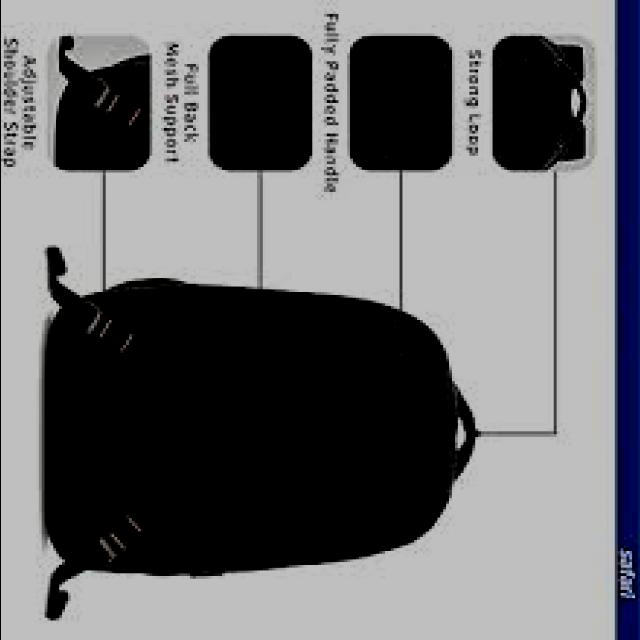backpack: (45, 246, 481, 619)
